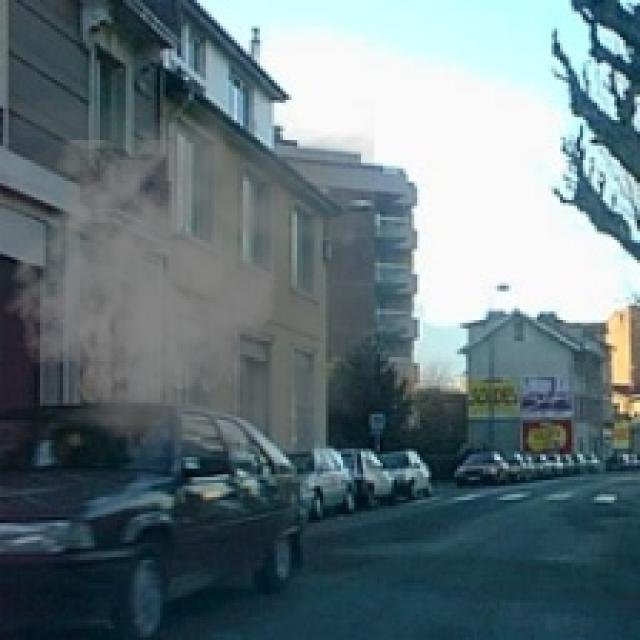smoke: (3, 100, 374, 463)
